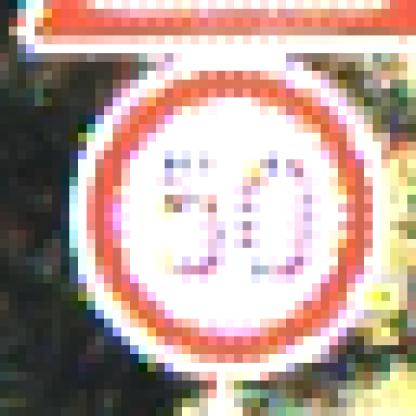Speed Limit 50: (82, 67, 379, 362)
